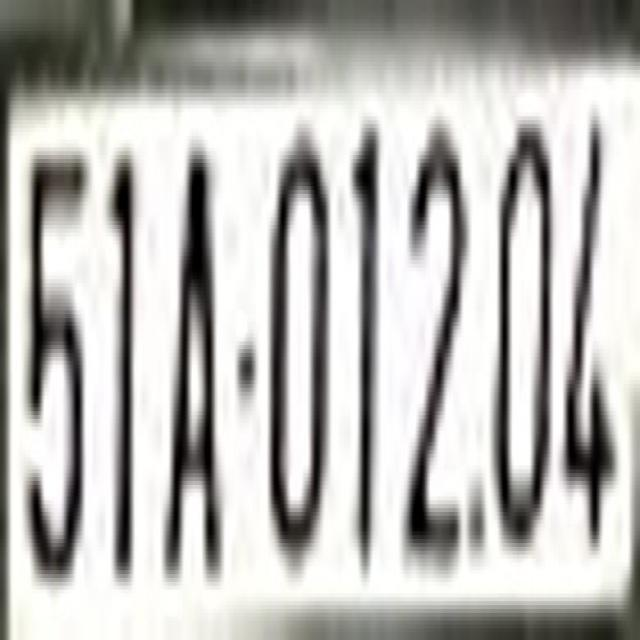0: (490, 109, 556, 566), (266, 124, 332, 574)
1: (342, 101, 385, 586), (106, 140, 138, 598)
2: (401, 116, 464, 582)
4: (560, 96, 622, 566)
5: (26, 128, 90, 598)
A: (163, 124, 226, 586)
